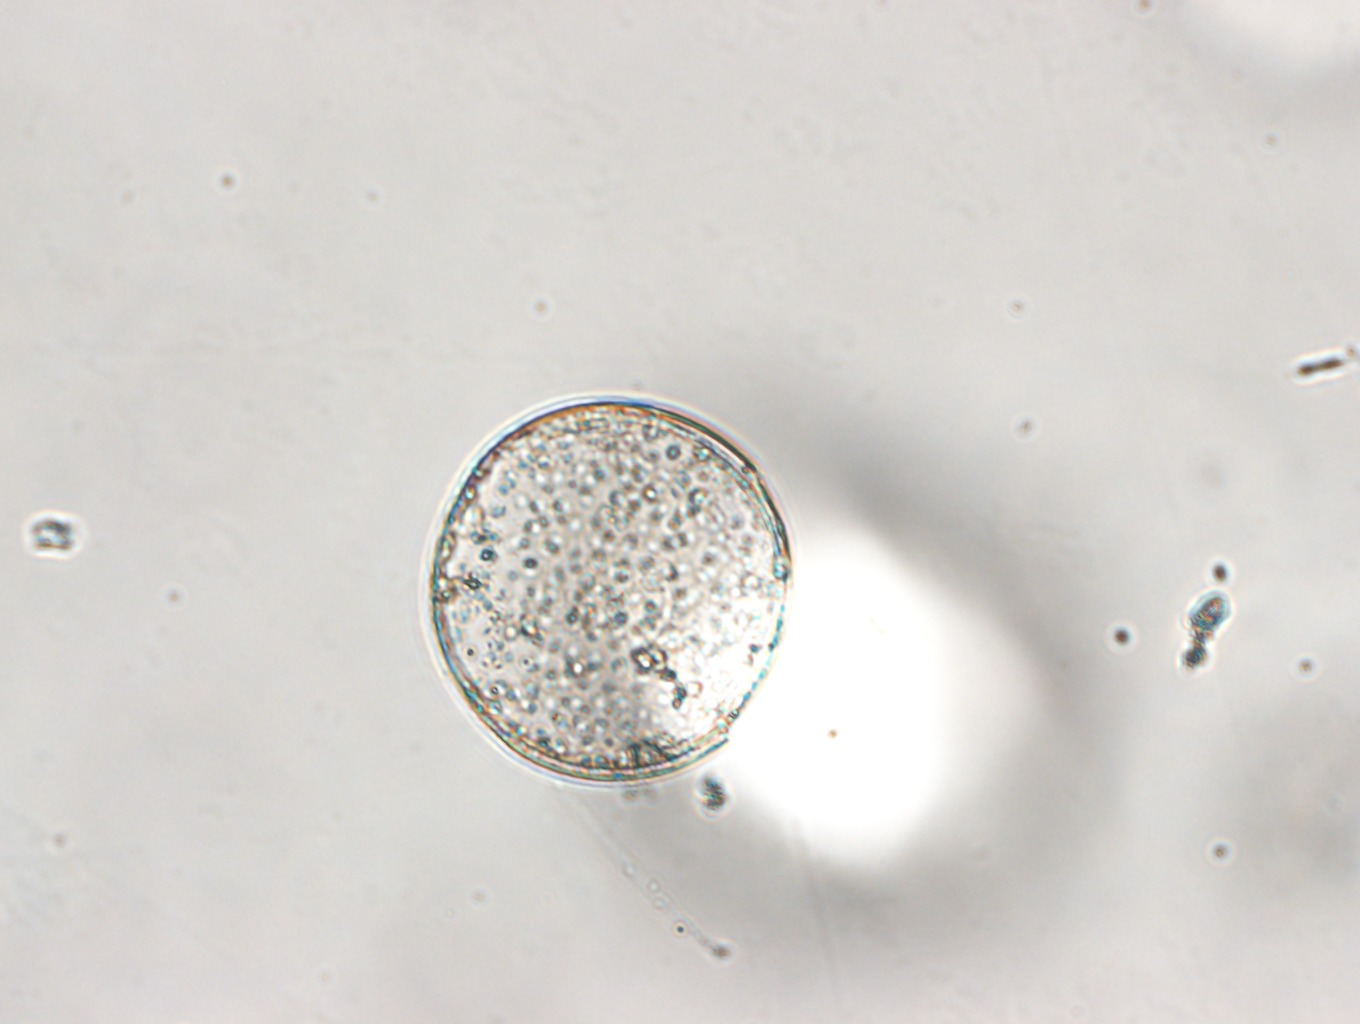coscinodiscus: (418, 392, 794, 786)
